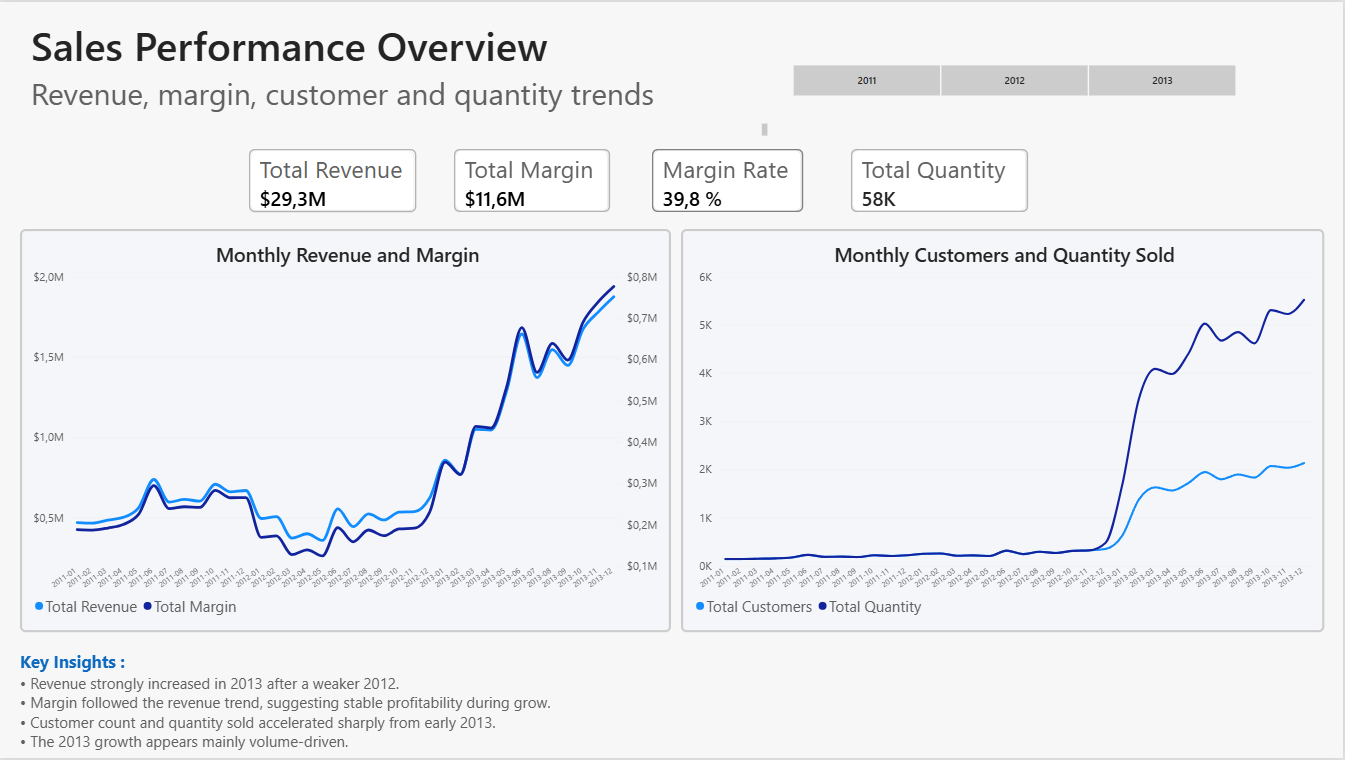

The page's visual inventory and layout, read from the dashboard file:
{"tool":"powerbi","page":{"name":"Sales Performance Overview","canvas":[1920,1080],"ordinal":0},"visuals":[{"type":"cardVisual","fields":{"Data":["Measures (2).Total Margin"]},"box":[650,210,222.9,90],"z":0},{"type":"cardVisual","fields":{"Data":["Measures (2).Margin Rate"]},"box":[932.9,210,215.7,90],"z":1000},{"type":"cardVisual","fields":{"Data":["Measures (2).Total Quantity"]},"box":[1217.1,210,252.9,90],"z":2000},{"type":"lineChart","title":"Monthly Revenue and Margin","fields":{"Category":["Date.Year Month"],"Y":["Measures (2).Total Revenue"],"Y2":["Measures (2).Total Margin"]},"box":[30,324.3,930,575.7],"z":3000},{"type":"lineChart","title":"Monthly Customers and Quantity Sold","fields":{"Category":["Date.Year Month"],"Y":["Measures (2).Total Customers","Measures (2).Total Quantity"]},"box":[974.3,324.3,918.6,575.7],"z":4000},{"type":"textbox","title":"Sales Performance Overview","box":[45.3,22.6,1052.3,177.7],"z":5000},{"type":"textbox","title":"Key insights :","box":[30,925.7,1890,154.3],"z":6000},{"type":"cardVisual","fields":{"Data":["Measures (2).Total Revenue"]},"box":[357.1,210,238.6,90],"z":7000},{"type":"slicer","fields":{"Values":["Date.Year"]},"box":[1114.3,88.6,671.4,47.1],"z":8000}]}

Visuals, with their boxes in screenshot pixels (x1, y1, x2, y2), scaled from the page's 1920x1080 canvas onto the 1345x760 screenshot:
cardVisual - Measures (2).Total Margin: crop(455, 148, 611, 211)
cardVisual - Measures (2).Margin Rate: crop(654, 148, 805, 211)
cardVisual - Measures (2).Total Quantity: crop(853, 148, 1030, 211)
"Monthly Revenue and Margin" lineChart: crop(21, 228, 672, 633)
"Monthly Customers and Quantity Sold" lineChart: crop(683, 228, 1326, 633)
"Sales Performance Overview" textbox: crop(32, 16, 769, 141)
"Key insights :" textbox: crop(21, 651, 1344, 759)
cardVisual - Measures (2).Total Revenue: crop(250, 148, 417, 211)
slicer - Date.Year: crop(781, 62, 1251, 95)
